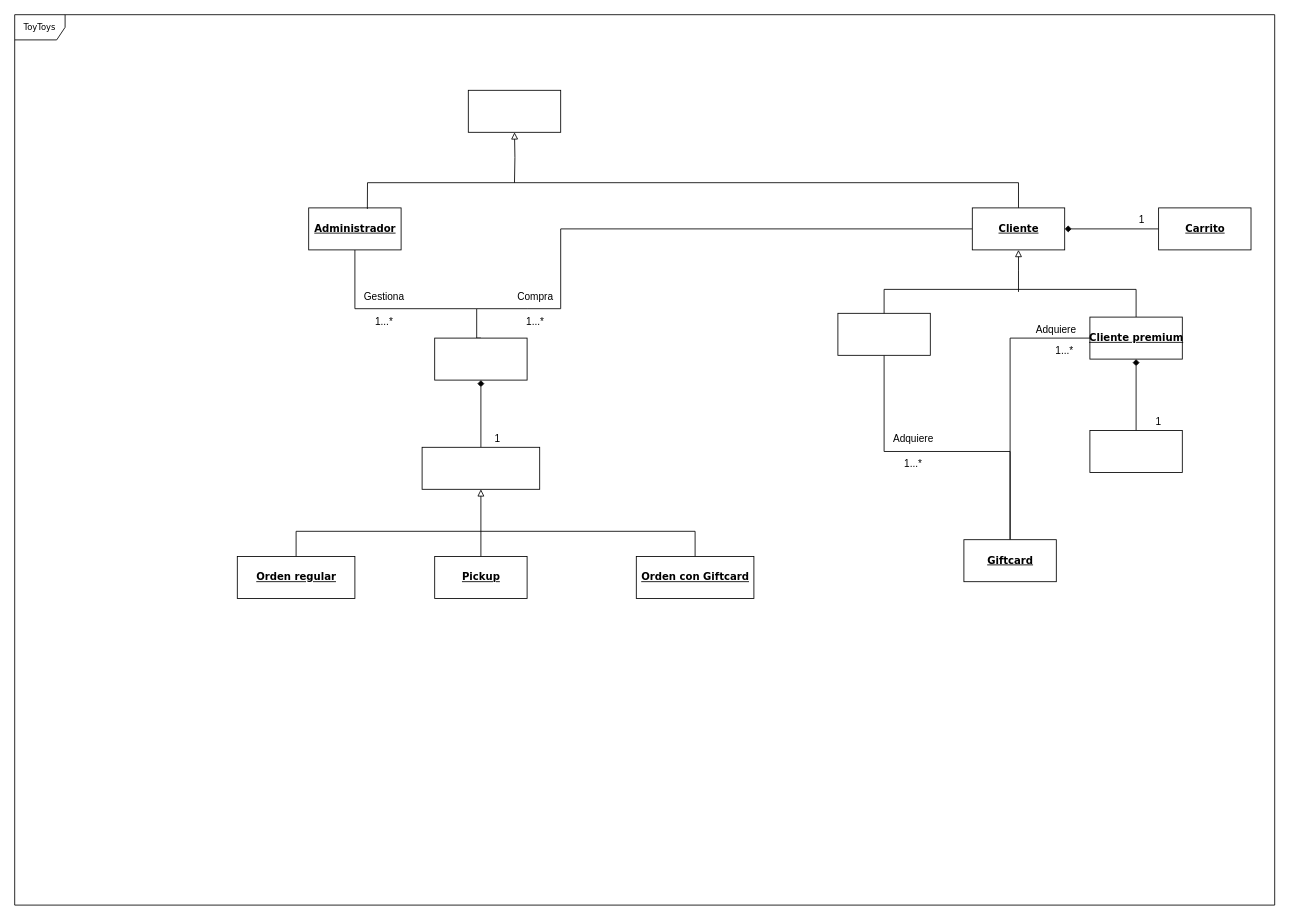
Image size: 1289x920. Some labels were removed from this diagram. Here are the shapes that lost their labels. From the top down, the centre of each, then its label:
point 514,110: Usuario
point 883,333: Cliente regular
point 480,358: Producto
point 480,467: Orden de compra
point 1135,451: Suscripción
